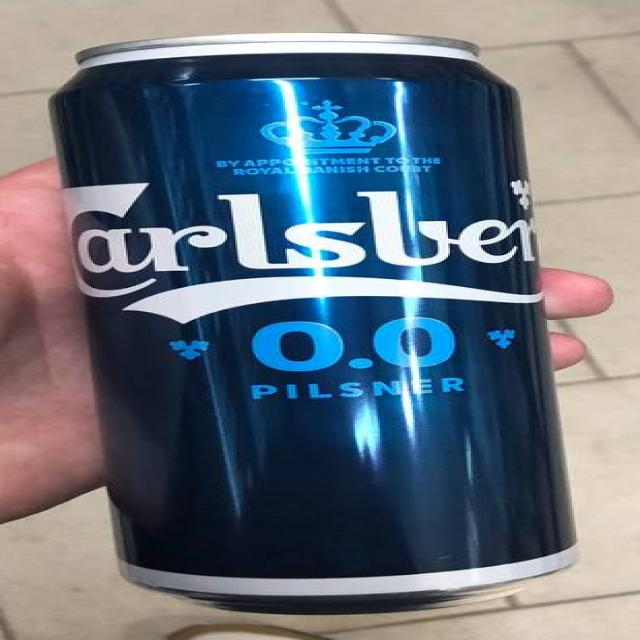Carlsberg 0.0: (0, 1, 640, 640)
